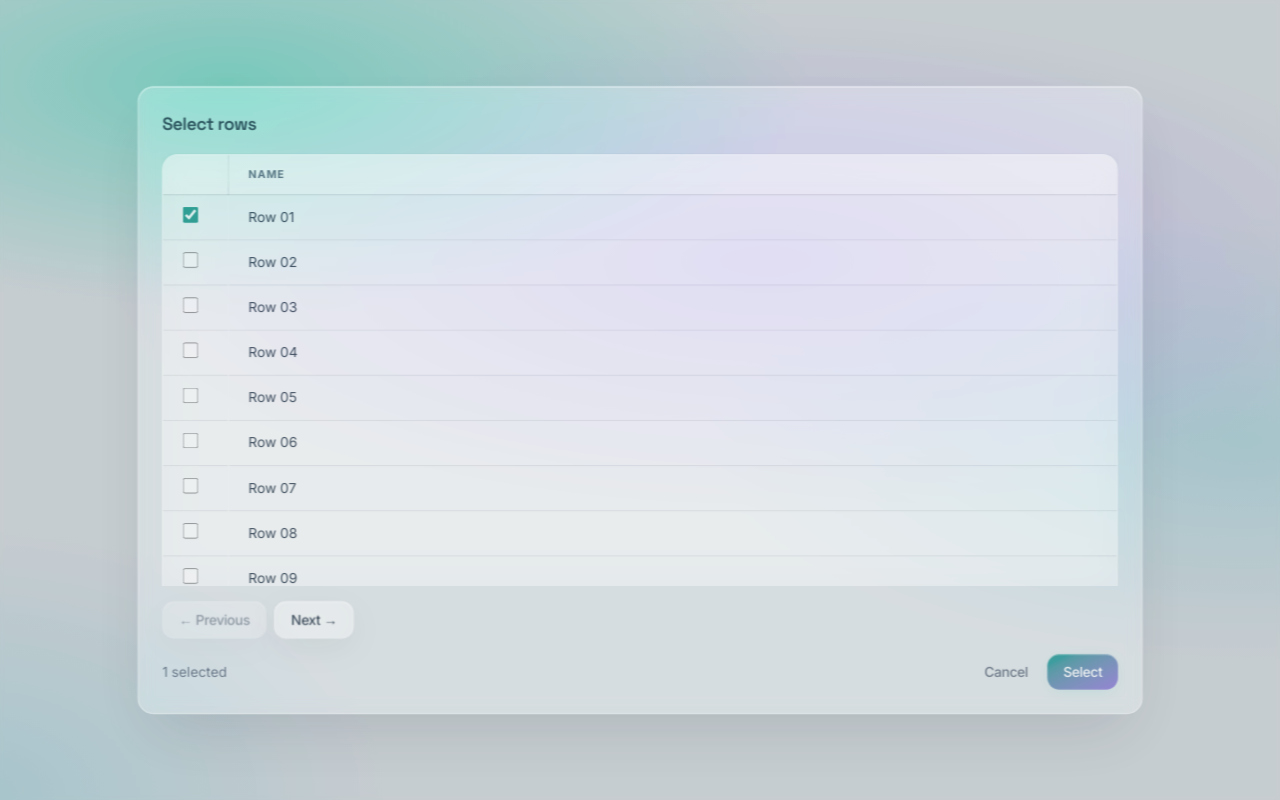
RecordPickerDialog › counts the current draft selection
Click the checkbox named "Row 02" next to "Row 02".
click(191, 259)  # box [183,252,198,267]
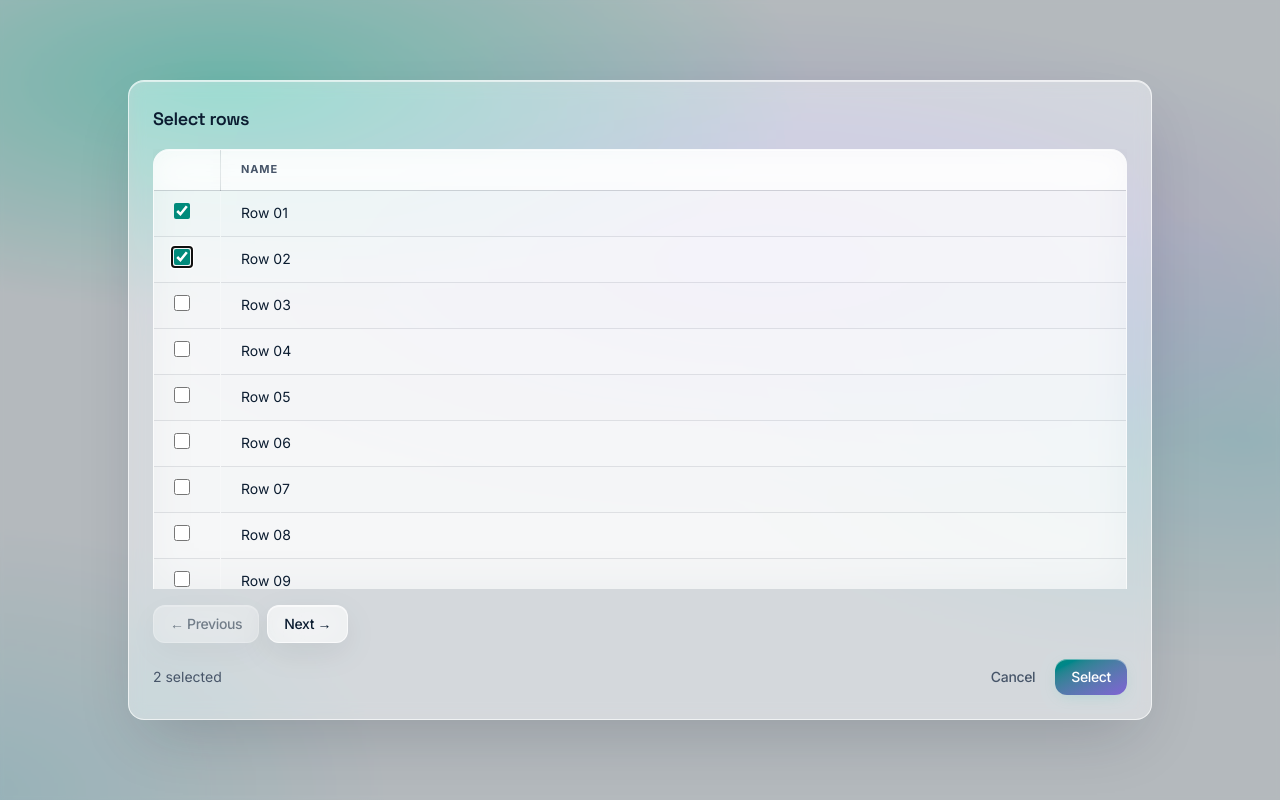
Expected: the text "2 selected" is shown, [153,667,222,687]
